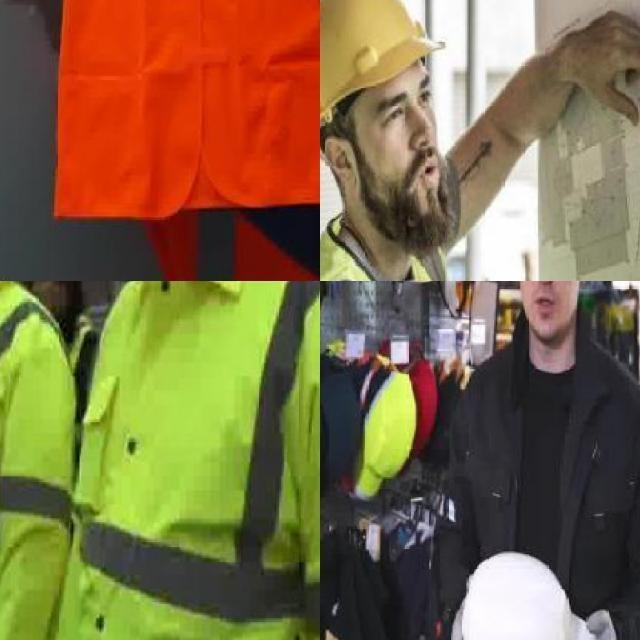apron: (562, 601, 618, 640), (447, 616, 474, 640)
